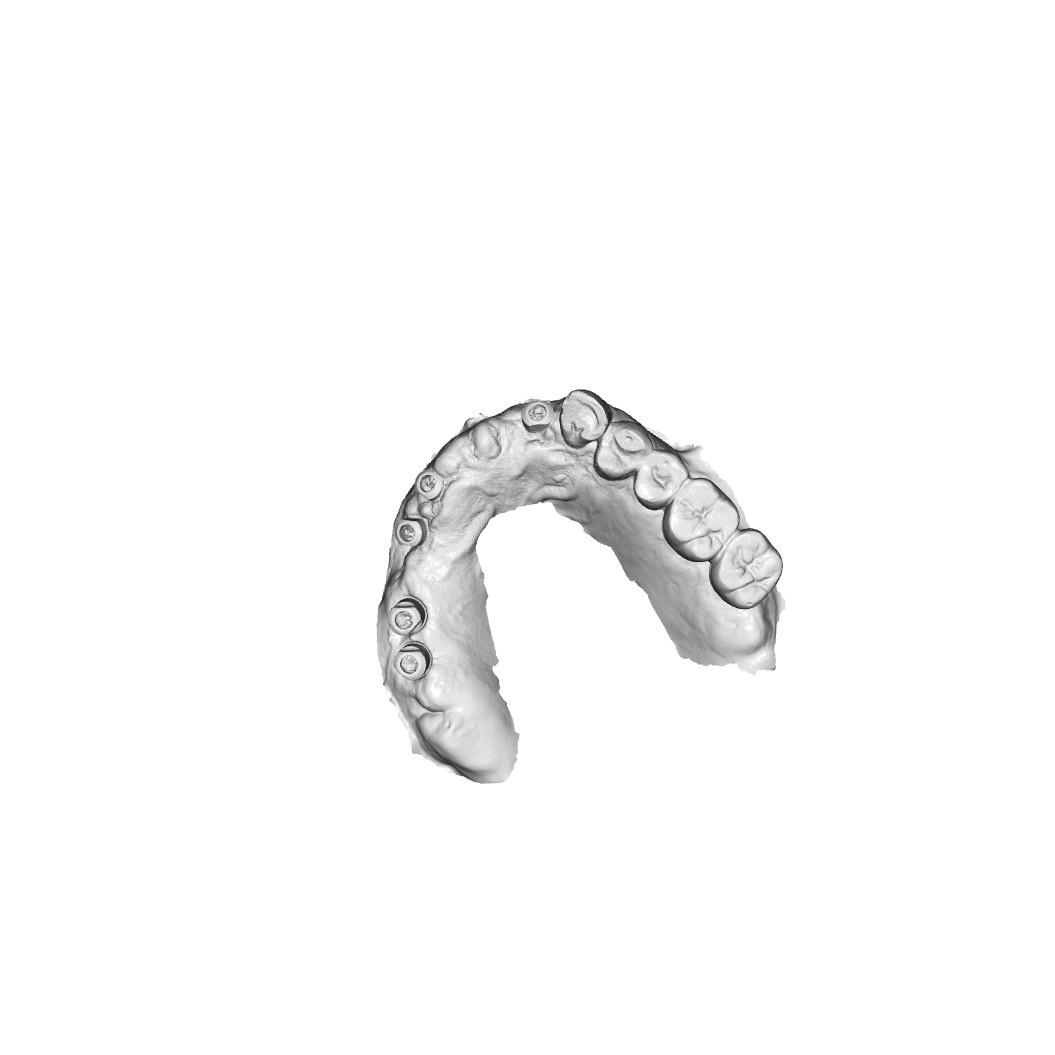canine: (559, 389, 613, 449)
implant: (392, 641, 434, 683), (387, 595, 428, 638), (394, 513, 429, 548), (520, 398, 555, 433), (414, 467, 446, 502)
molar: (661, 476, 741, 563), (708, 526, 784, 610)
premolar: (593, 420, 654, 482), (632, 449, 689, 512)
